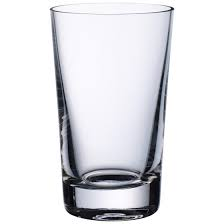glass: (48, 1, 177, 223)
